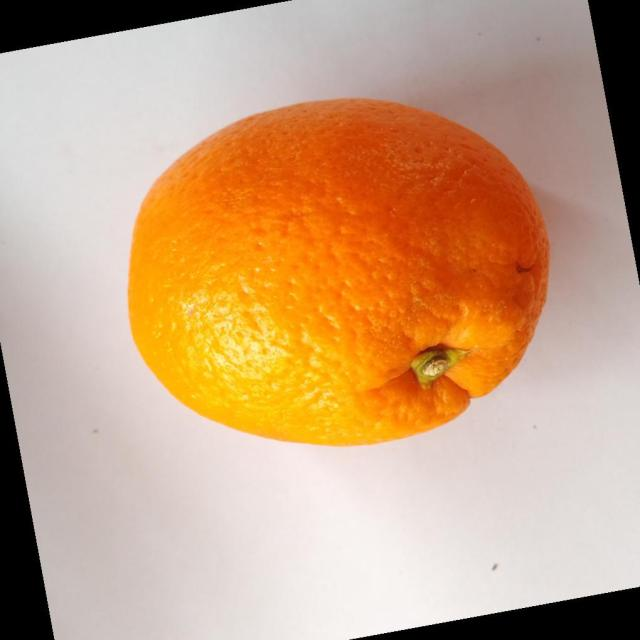fresh orange: (126, 96, 551, 447)
